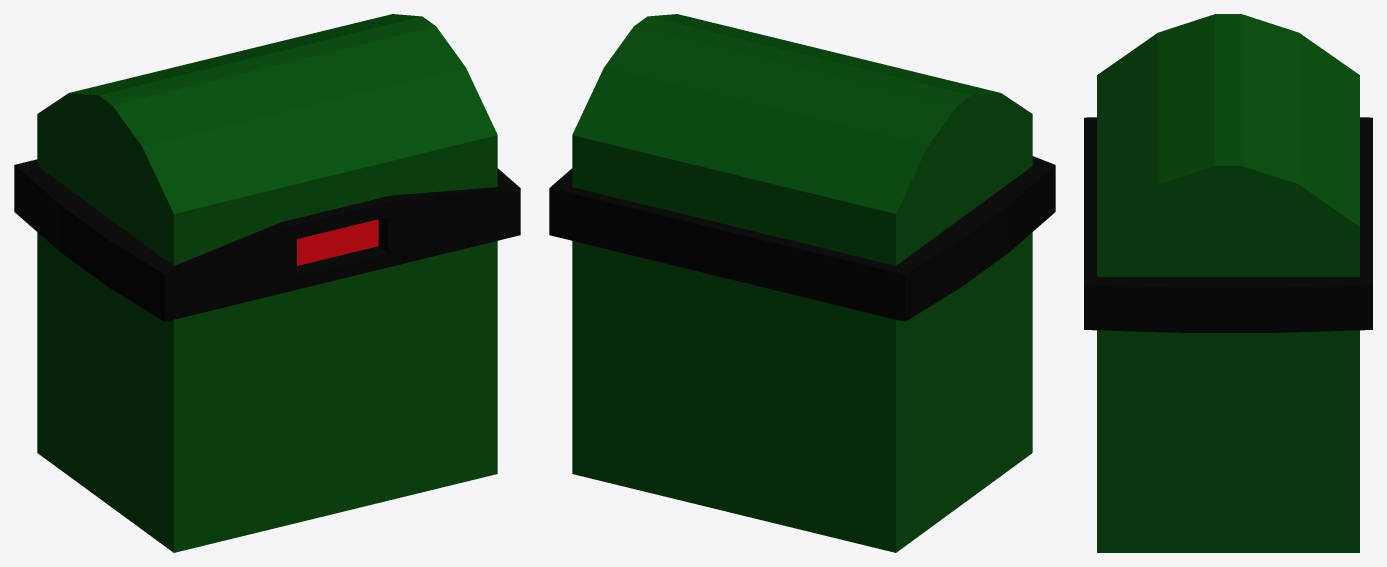
File: lightning.glb
3 views of the same model, side by side, from view 1: azimuth 30°, elevation 25°; view 2: azimuth 150°, elevation 25°; view 3: azimuth 270°, elevation 25° (orthographic). The views are drawn at different scales.
Parts seen in each view (by area): view 1: Cube; view 2: Cube; view 3: Cube.
Part boxes in pixels (bbox=[...]): Cube: bbox=[14, 14, 520, 552]; Cube: bbox=[549, 14, 1055, 552]; Cube: bbox=[1084, 14, 1372, 552].
Size of the model in its own units: 2.28 by 2.38 by 1.61.
